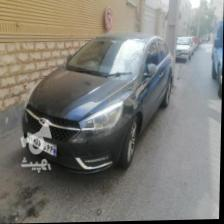plate: (27, 130, 59, 156)
